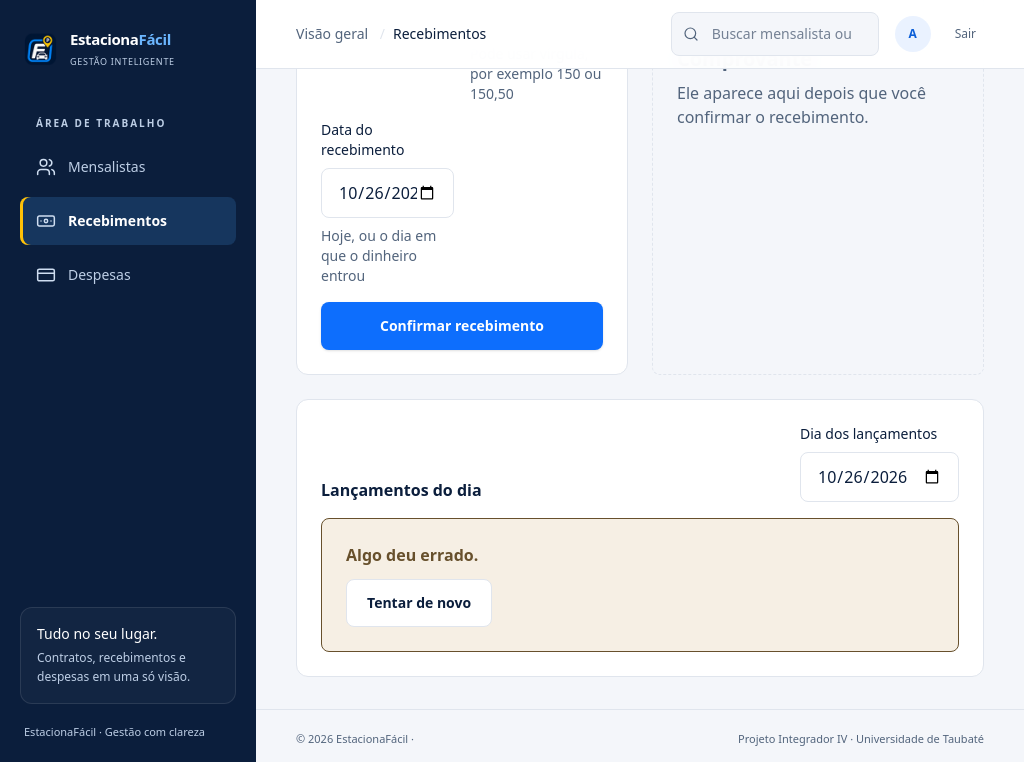
Scenario: aba Recebimentos › com erro ao carregar os lançamentos mostra a mensagem e "Tentar de novo"
The image size is (1024, 762).
(page scrolled)
expect the message shows "Algo deu errado.": met, box [346,544,478,566]
Click the button "Tentar de novo" at (419, 603), box [346,579,492,627]
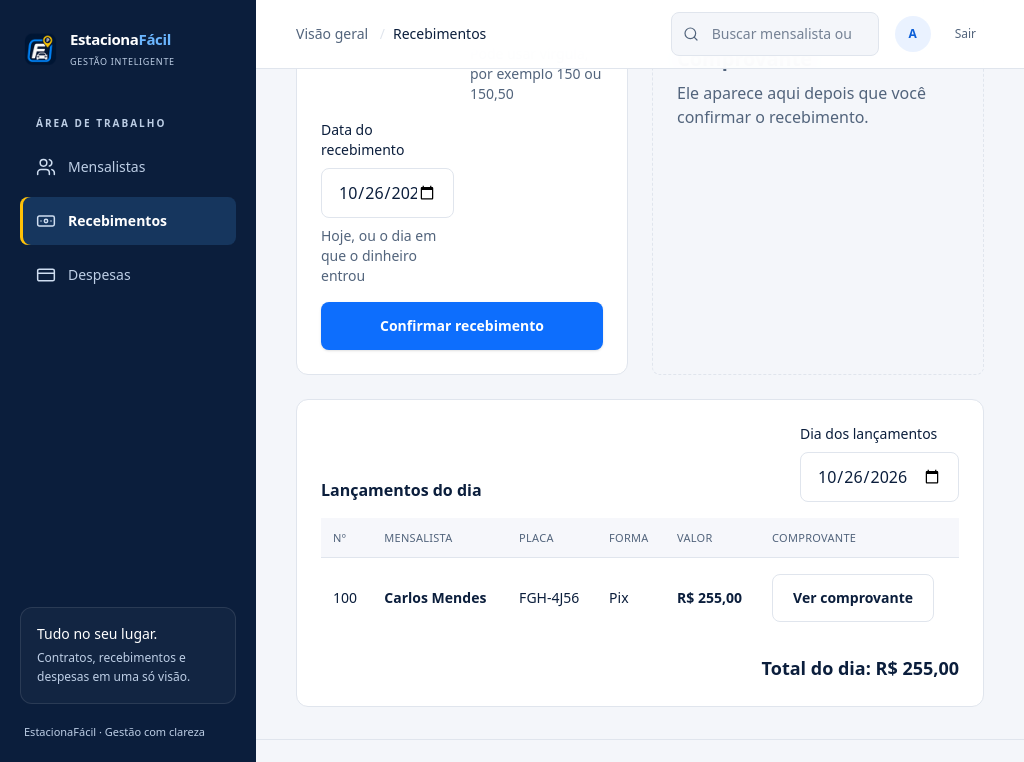
expect the text "Carlos Mendes" is shown: met, box [372,558,507,638]
